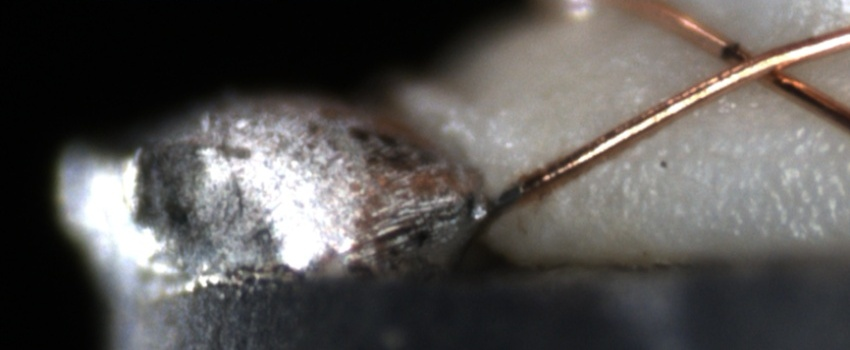CL: (709, 31, 810, 94)
DL: (628, 125, 850, 189)
